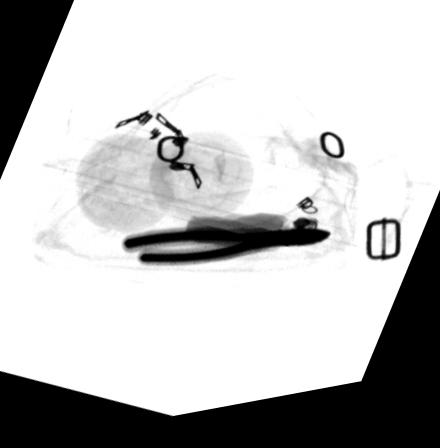Pliers: (119, 231, 332, 272)
